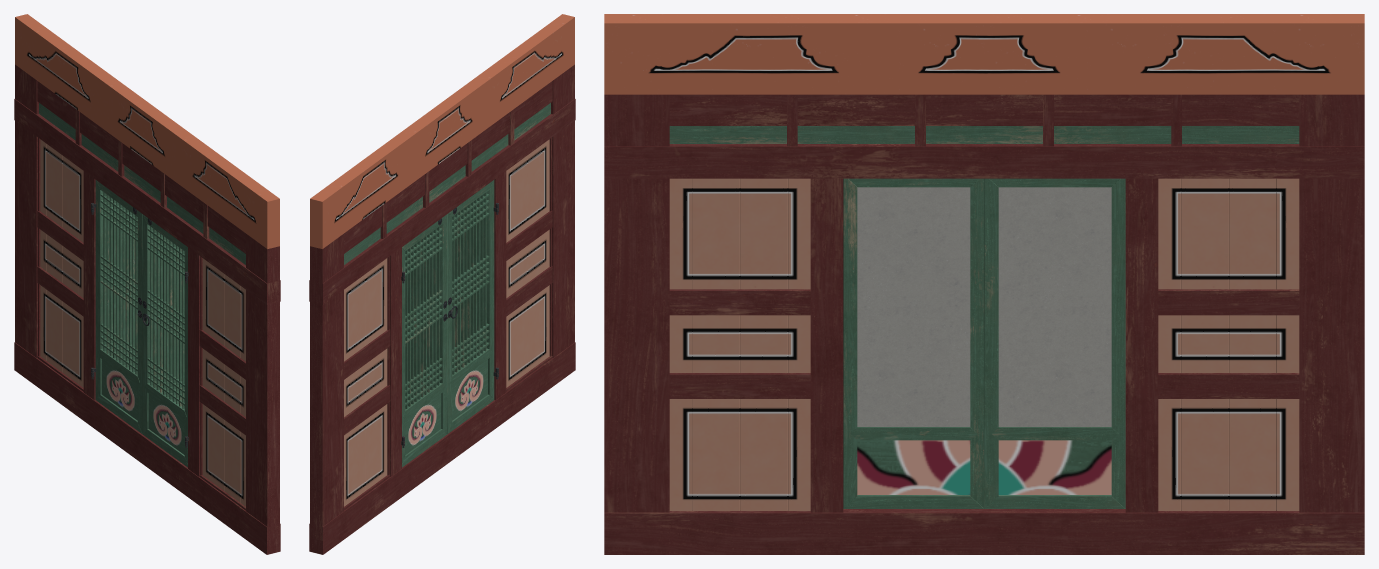
The model's file is SM_CGJ_Wall01a.fbx.
3 views of the same model, side by side, from view 1: azimuth 30°, elevation 25°; view 2: azimuth 150°, elevation 25°; view 3: azimuth 270°, elevation 25° (orthographic). The views are drawn at different scales.
Visible parts, largest first — view 1: SM_CGJ_Wall01a; view 2: SM_CGJ_Wall01a; view 3: SM_CGJ_Wall01a.
Part boxes in pixels (x1,y1,x2,y2): SM_CGJ_Wall01a: (14,14,280,554); SM_CGJ_Wall01a: (309,14,575,554); SM_CGJ_Wall01a: (604,14,1364,554).
Bounding box in the file's own units: 12.96 × 350 × 270.
Materials: 7 (7 with a texture image).
